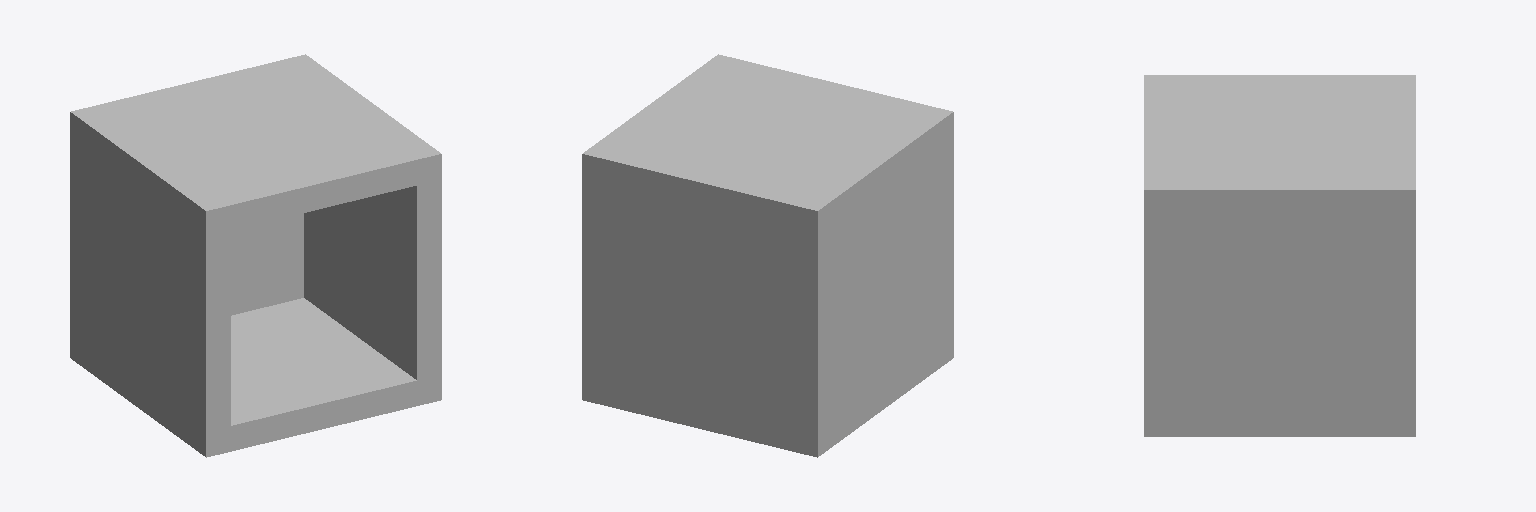
The model's file is safe_case.obj.
3 views of the same model, side by side, from view 1: azimuth 30°, elevation 25°; view 2: azimuth 150°, elevation 25°; view 3: azimuth 270°, elevation 25° (orthographic).
Parts seen in each view (by area): view 1: Cube; view 2: Cube; view 3: Cube.
Part boxes in pixels (x1,y1,x2,y2): Cube: (70,54,441,457); Cube: (582,54,953,457); Cube: (1144,75,1415,436).
Size of the model in its own units: 2 by 2 by 2.